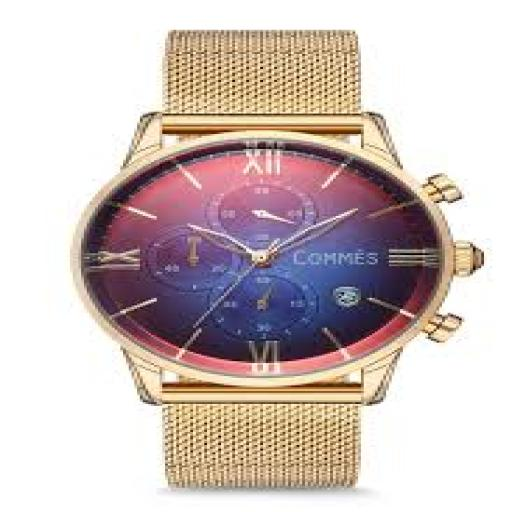KolSaati: (64, 15, 476, 489)
